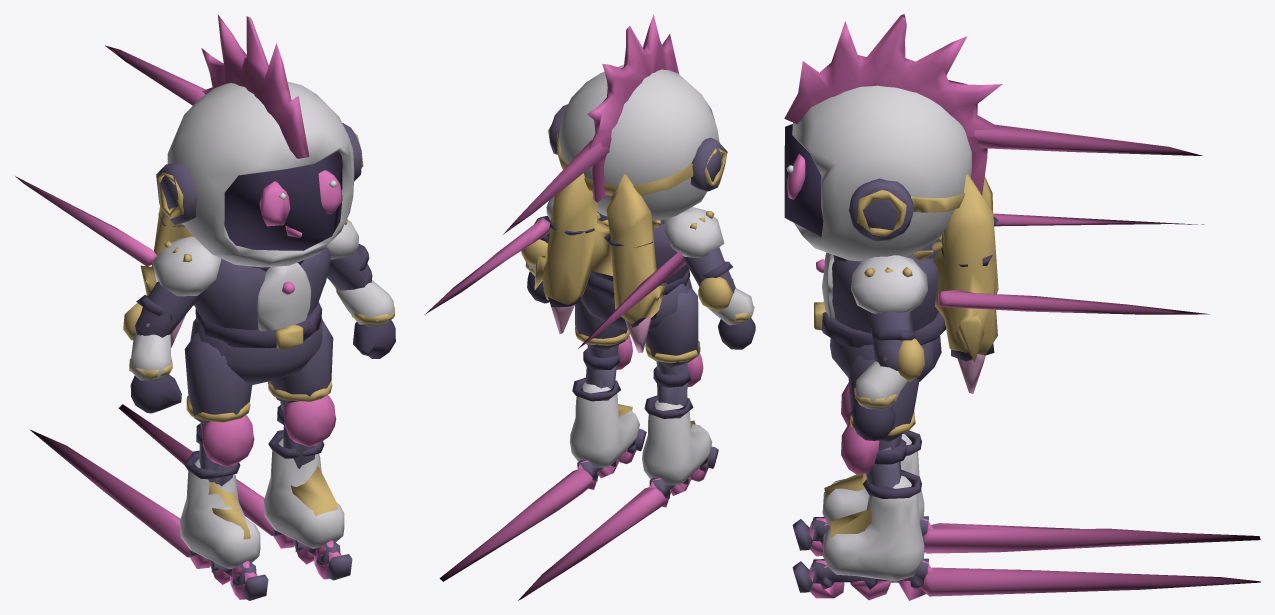
Rendered from roller_elite.glb.
3 views of the same model, side by side, from view 1: azimuth 30°, elevation 25°; view 2: azimuth 150°, elevation 25°; view 3: azimuth 270°, elevation 25° (orthographic). The views are drawn at different scales.
Parts seen in each view (by area): view 1: head, torso, skate_l, skate_r, pelvis, crest_glow, trail_glow, leg_r, fore_r, trail_up_glow, fore_l, shin_r (+7 smaller); view 2: head, torso, trail_glow, skate_l, skate_r, trail_up_glow, crest_glow, leg_r, fore_r, pelvis, leg_l, shin_r (+4 smaller); view 3: head, torso, trail_glow, crest_glow, skate_l, trail_up_glow, fore_l, skate_r, pelvis, shin_l, arm_l, leg_l (+2 smaller).
Boxes of the visible parts, x1,y1,x2,y2 form: head: (156, 81, 363, 267); torso: (140, 207, 358, 331); skate_l: (264, 430, 352, 580); skate_r: (180, 450, 268, 600); pelvis: (190, 302, 322, 384); crest_glow: (201, 15, 309, 158); trail_glow: (30, 404, 273, 557); leg_r: (184, 332, 252, 429); fore_r: (123, 303, 181, 413); trail_up_glow: (15, 45, 205, 266); fore_l: (331, 272, 395, 358); shin_r: (196, 415, 254, 486); head: (548, 64, 727, 220); torso: (534, 173, 724, 327); trail_glow: (439, 468, 664, 600); skate_l: (569, 377, 646, 480); skate_r: (642, 395, 718, 498); trail_up_glow: (424, 140, 686, 348); crest_glow: (587, 14, 678, 202); leg_r: (645, 287, 700, 375); fore_r: (698, 277, 755, 349); pelvis: (580, 269, 692, 331); leg_l: (575, 300, 629, 357); shin_r: (653, 352, 703, 406); head: (784, 85, 973, 261); torso: (822, 174, 998, 362); trail_glow: (919, 523, 1260, 596); crest_glow: (784, 14, 1002, 194); skate_l: (792, 470, 928, 592); trail_up_glow: (938, 124, 1209, 314); fore_l: (849, 338, 924, 440); skate_r: (792, 430, 928, 550); pelvis: (814, 301, 945, 381); shin_l: (841, 422, 906, 497); arm_l: (867, 310, 915, 370); leg_l: (848, 354, 919, 450).
Bounding box in the file's own units: 0.4972 × 0.992 × 0.7621.
